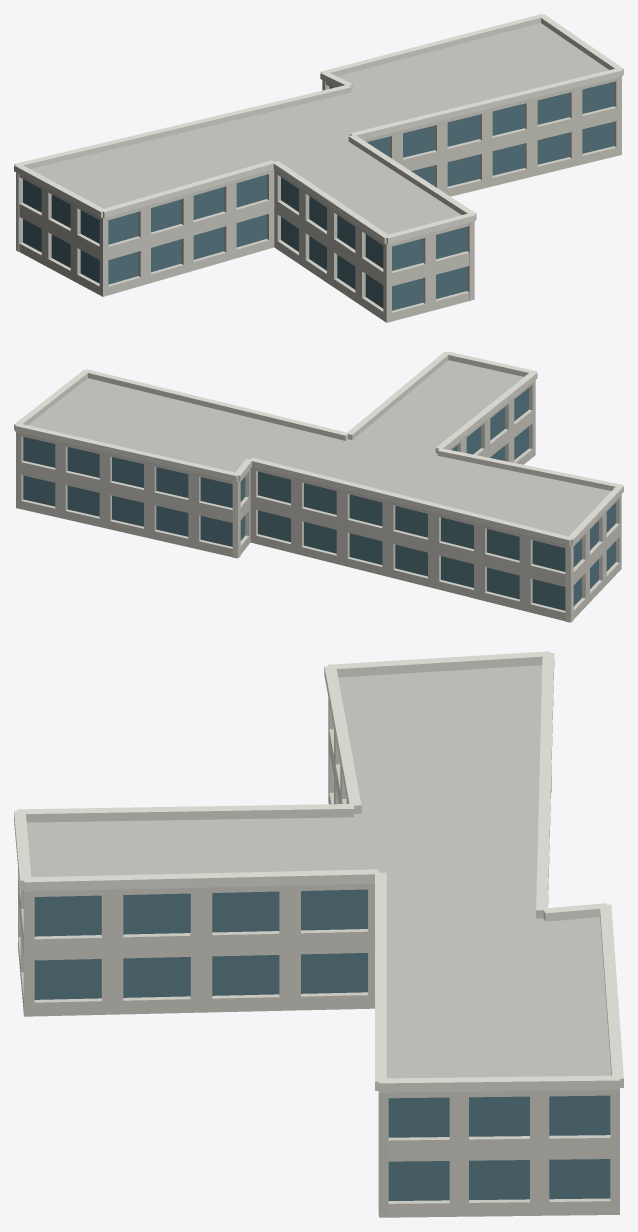
File: sb_1556523889.far.glb
The picture shows the model from 3 angles, top to bottom: view 1: azimuth 30°, elevation 25°; view 2: azimuth 150°, elevation 25°; view 3: azimuth 270°, elevation 25°; orthographic projection. The views are drawn at different scales.
Visible parts, largest first — view 1: roof, wall, glass, trim; view 2: roof, wall, glass, trim; view 3: roof, wall, glass, trim.
Boxes of the visible parts, bbox=[...] form: roof: bbox=[30, 23, 608, 234]; wall: bbox=[16, 76, 621, 322]; glass: bbox=[23, 82, 614, 310]; trim: bbox=[14, 14, 623, 243]; roof: bbox=[28, 360, 611, 536]; wall: bbox=[16, 380, 621, 622]; glass: bbox=[23, 388, 615, 610]; trim: bbox=[14, 351, 623, 545]; roof: bbox=[26, 665, 611, 1078]; wall: bbox=[18, 698, 619, 1217]; glass: bbox=[34, 889, 610, 1200]; trim: bbox=[14, 651, 623, 1092].
Bounding box in the file's own units: 43.87 × 6.44 × 26.17.
